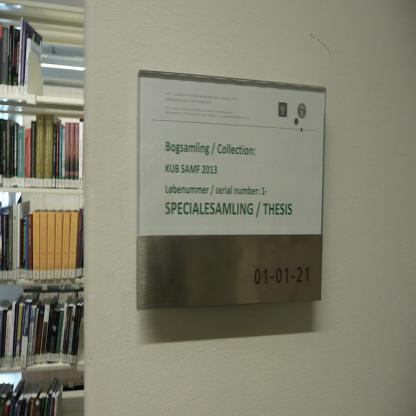book: (0, 8, 83, 416), (18, 126, 26, 186)
